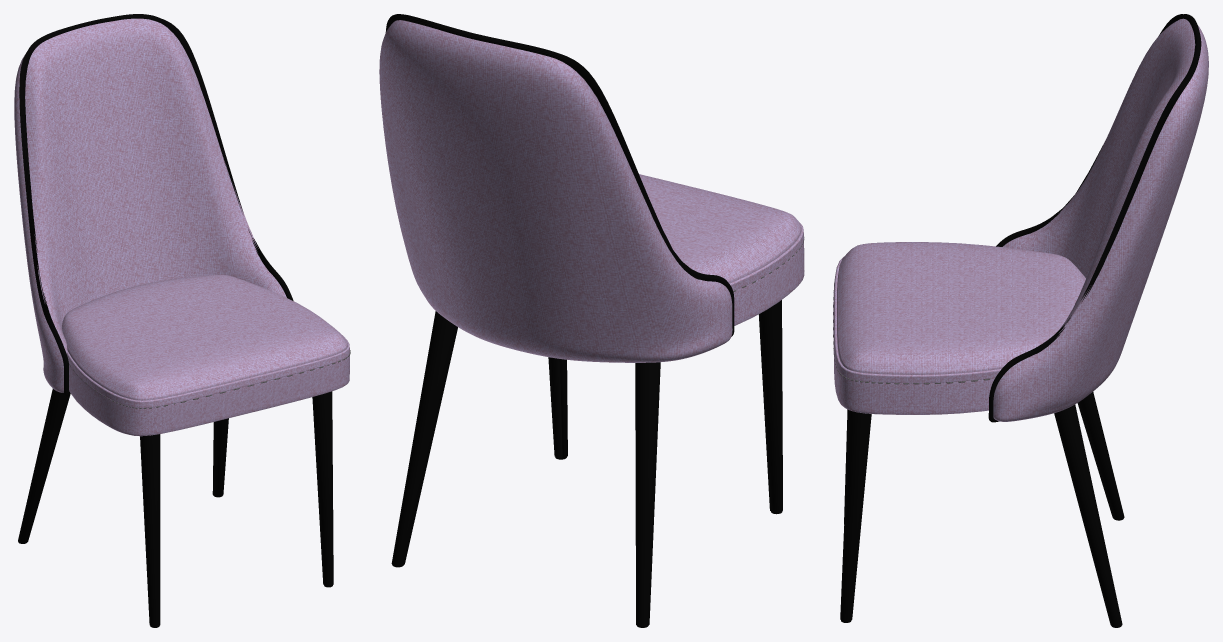
Rendered from modernist3.glb.
3 views of the same model, side by side, from view 1: azimuth 30°, elevation 25°; view 2: azimuth 150°, elevation 25°; view 3: azimuth 270°, elevation 25° (orthographic). The views are drawn at different scales.
Visible parts, largest first — view 1: chair_back, chair_seat, legs, seam_chair_back; view 2: chair_back, legs, chair_seat, seam_chair_back; view 3: chair_seat, chair_back, legs, seam_chair_back.
Boxes of the visible parts, left/top/right/bottom form: chair_back: left=14, top=18, right=286, bottom=392; chair_seat: left=62, top=274, right=349, bottom=436; legs: left=18, top=388, right=333, bottom=627; seam_chair_back: left=19, top=14, right=293, bottom=396; chair_back: left=379, top=20, right=732, bottom=362; legs: left=391, top=300, right=782, bottom=627; chair_seat: left=639, top=174, right=804, bottom=325; seam_chair_back: left=385, top=14, right=734, bottom=336; chair_seat: left=833, top=242, right=1085, bottom=414; chair_back: left=993, top=18, right=1208, bottom=421; legs: left=840, top=392, right=1124, bottom=627; seam_chair_back: left=988, top=14, right=1201, bottom=422.
Size of the model in its own units: 0.5666 by 1.05 by 0.6761.
4 materials, 1 textured.
